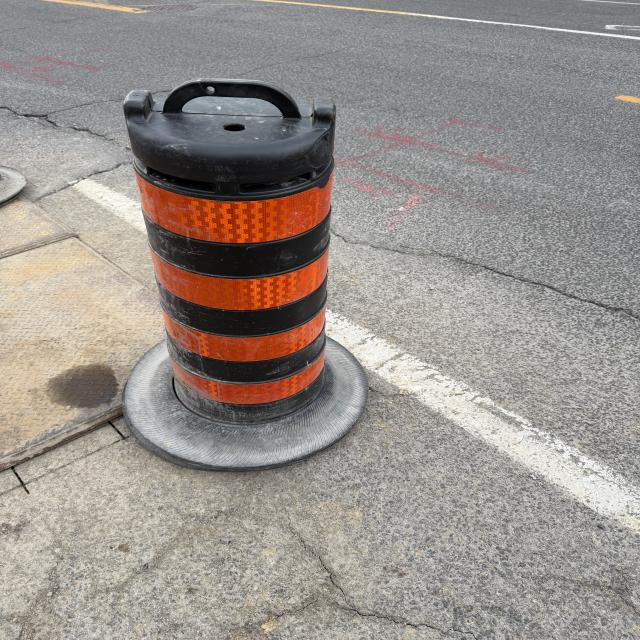Teraffic Barrel: (124, 80, 368, 470)
